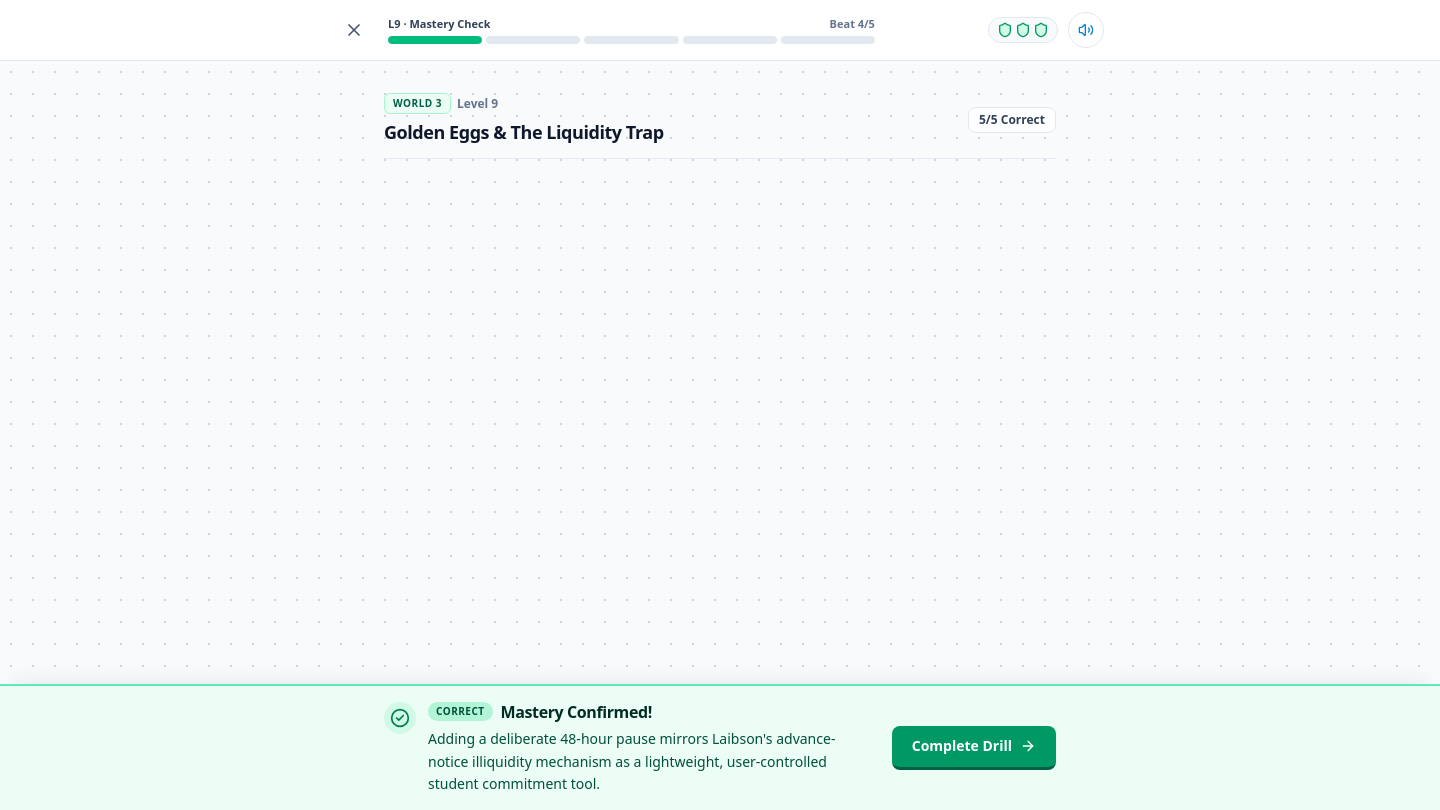
Scenario: Phase 5D: Training Arena Ergonomics, Keyboard Navigation & Level 9 Integration › completes Level 9 end-to-end in the Arena, persists final progress, and never renders Level 10
Earlier steps of the test are not shown.
Click the button "Complete Drill" at (974, 748), box [892,726,1056,770]
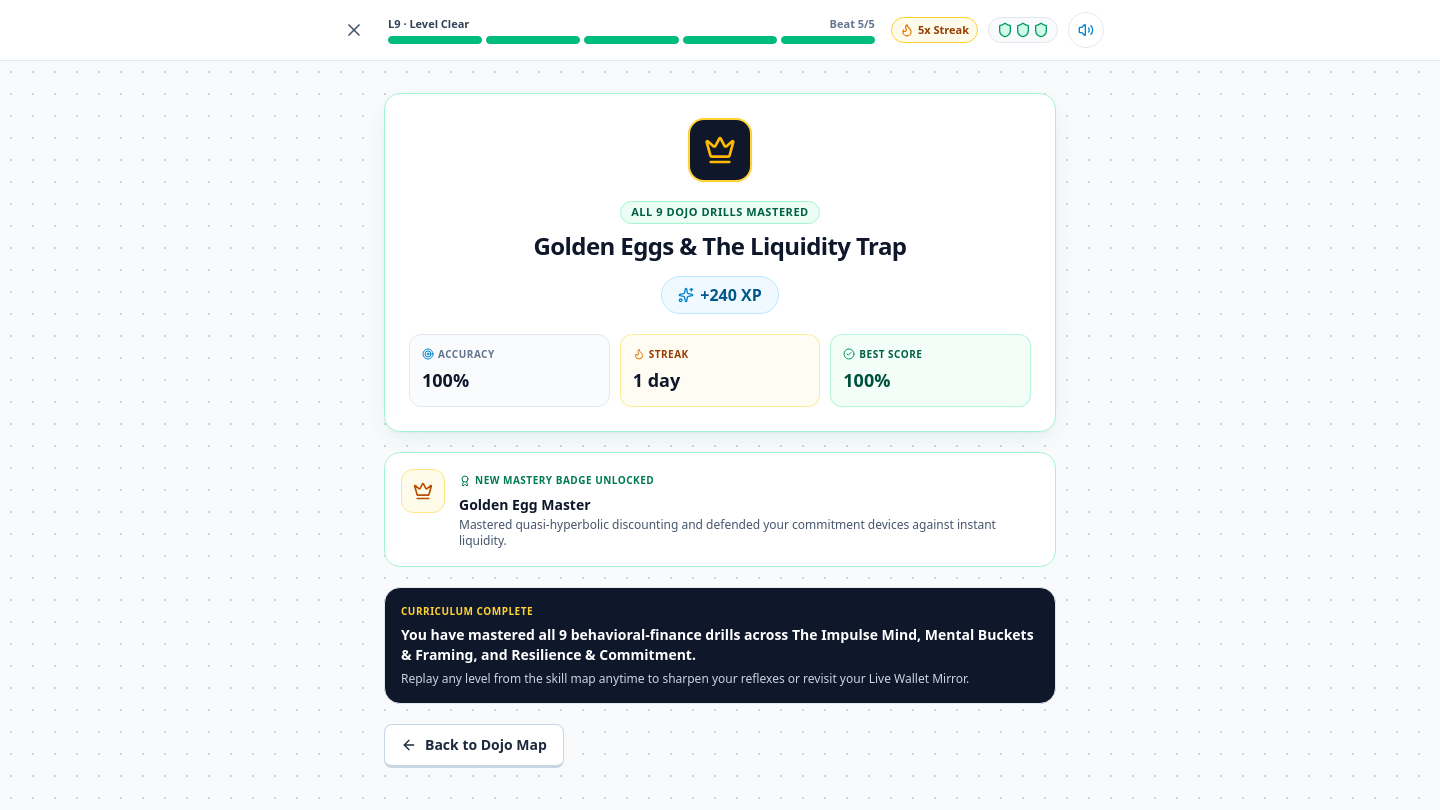
Expected: the text "All 9 Dojo Drills Mastered" is shown, [620,201,820,224]
Expected: the text "+240 XP" is shown, [700,282,762,306]
Expected: the text "Curriculum Complete" is shown, [401,604,533,618]
